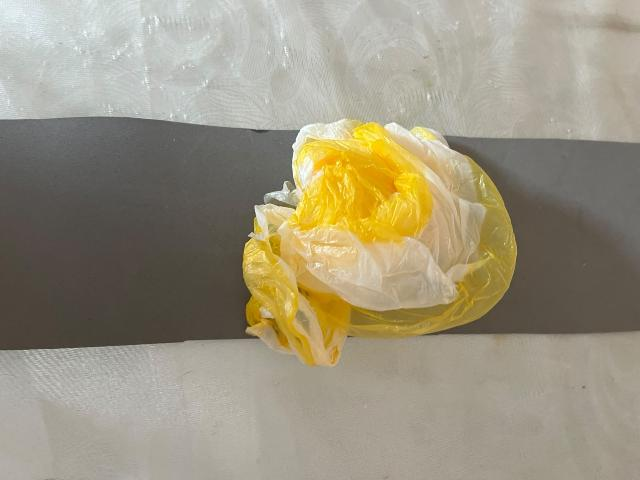LDPE: (217, 86, 554, 427)
